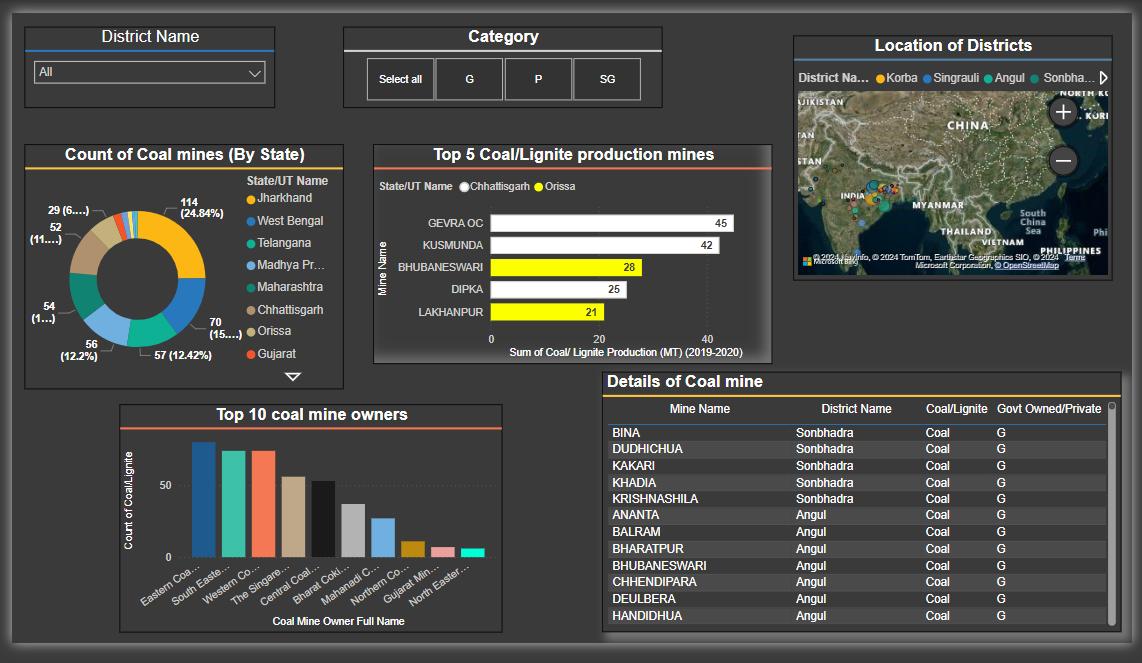

What the dashboard file says about the page in this screenshot:
{"tool":"powerbi","page":{"name":"Page 1","canvas":[1280,720],"ordinal":0},"visuals":[{"type":"donutChart","title":"Count of Coal mines (By State)","fields":{"Y":["CountNonNull(dataset.State/UT Name)"],"Category":["dataset.State/UT Name"]},"box":[13.7,149.6,365,279.9],"z":0},{"type":"tableEx","title":"Details of Coal mine","fields":{"Values":["dataset.Mine Name","dataset.District Name","dataset.Coal/Lignite","dataset.Govt Owned/Private"]},"box":[673.8,410,593.8,297.5],"z":1000},{"type":"barChart","title":"Top 5 Coal/Lignite production mines","fields":{"Y":["Sum(dataset.Coal/ Lignite Production (MT) (2019-2020))"],"Category":["dataset.Mine Name"],"Series":["dataset.State/UT Name"]},"box":[412.5,150,456.2,251.2],"z":2000},{"type":"map","title":"Location of Districts","fields":{"Category":["dataset.District Name"],"Size":["Sum(dataset.Coal/ Lignite Production (MT) (2019-2020))"],"Series":["dataset.District Name"]},"box":[892.5,26.2,365,280],"z":3000},{"type":"slicer","title":"District Name","fields":{"Values":["dataset.District Name"]},"box":[13.8,16.2,286.2,92.5],"z":4000},{"type":"slicer","title":"Category","fields":{"Values":["dataset.Govt Owned/Private"]},"box":[378.8,16.2,365,92.5],"z":5000},{"type":"clusteredColumnChart","title":"Top 10 coal mine owners","fields":{"Category":["dataset.Coal Mine Owner Full Name"],"Y":["CountNonNull(dataset.Coal/Lignite)"]},"box":[123.5,447.3,437.7,260.7],"z":6001}]}

Visuals, with their boxes on the page's 1280x720 design canvas (x1, y1, x2, y2). These are canvas units, not pixel positions in the 1142x663 screenshot, which may show the page scaled, cropped or inside an application window:
"Count of Coal mines (By State)" donutChart: <region>14, 150, 379, 430</region>
"Details of Coal mine" tableEx: <region>674, 410, 1268, 708</region>
"Top 5 Coal/Lignite production mines" barChart: <region>412, 150, 869, 401</region>
"Location of Districts" map: <region>892, 26, 1258, 306</region>
"District Name" slicer: <region>14, 16, 300, 109</region>
"Category" slicer: <region>379, 16, 744, 109</region>
"Top 10 coal mine owners" clusteredColumnChart: <region>124, 447, 561, 708</region>
